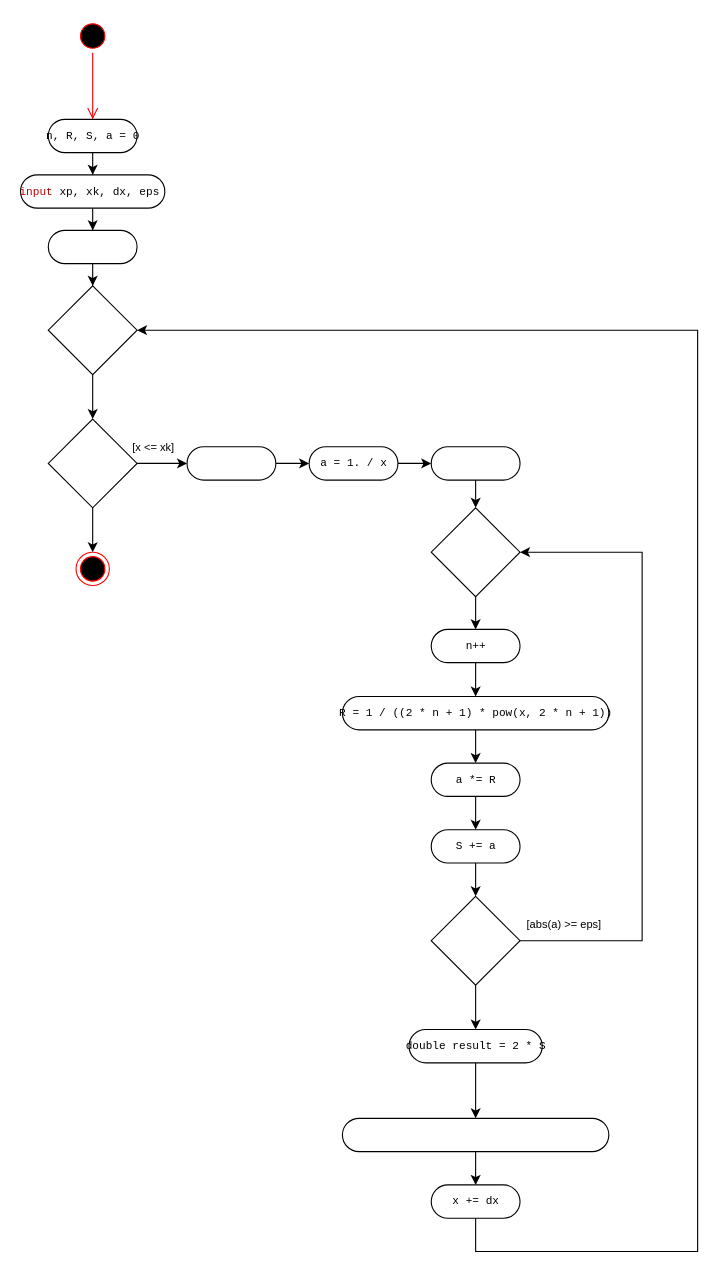
Image size: 726x1280. Some labels were removed from this diagram. The centre of each missing label's shape, as x and y in pixels:
"n = 0" belongs at pixel 231 463.
"output x, log((x + 1) / (x - 1)), result, n" belongs at pixel 475 1134.
"S = a" belongs at pixel 475 463.
"x = xp" belongs at pixel 92 246.
